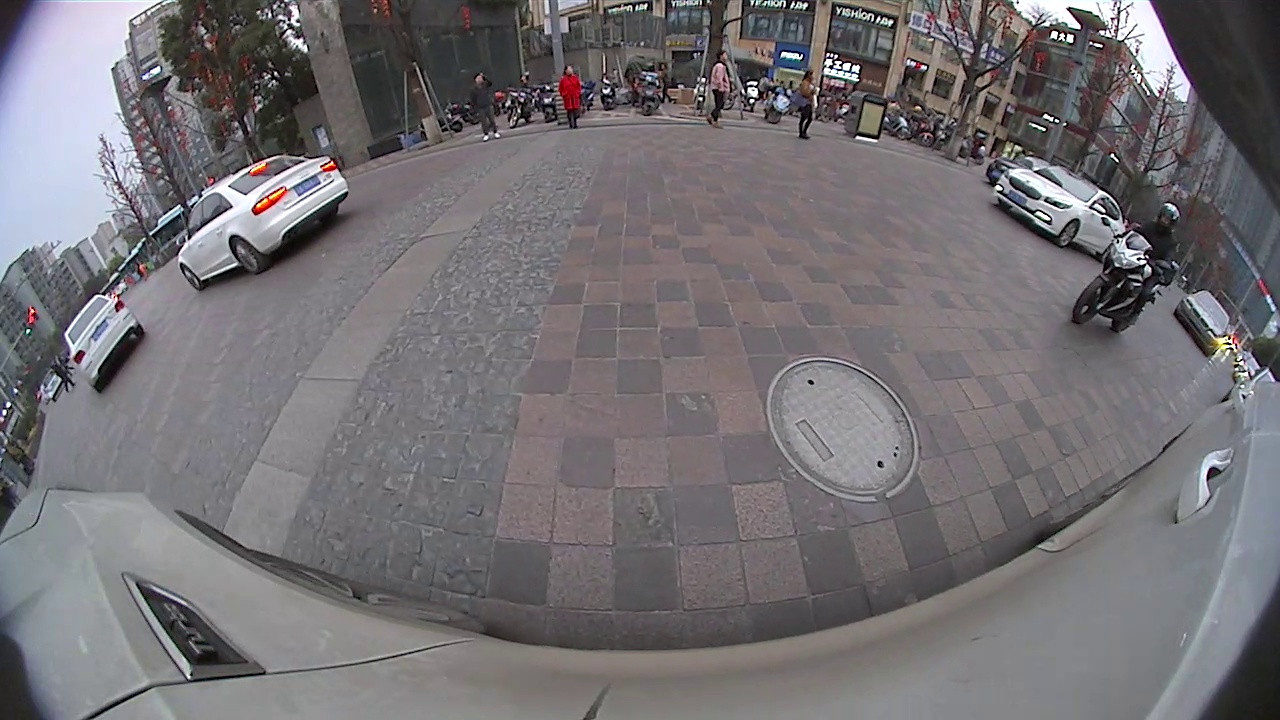car: (176, 152, 354, 294), (990, 161, 1128, 256), (61, 291, 146, 395), (1173, 287, 1234, 360)
front: (1068, 271, 1119, 327), (1051, 215, 1084, 253), (177, 266, 206, 293)
person: (798, 66, 817, 138), (559, 63, 580, 128), (712, 48, 729, 125), (474, 71, 492, 142)
rear: (228, 236, 265, 277)
rider: (1069, 201, 1183, 334)
